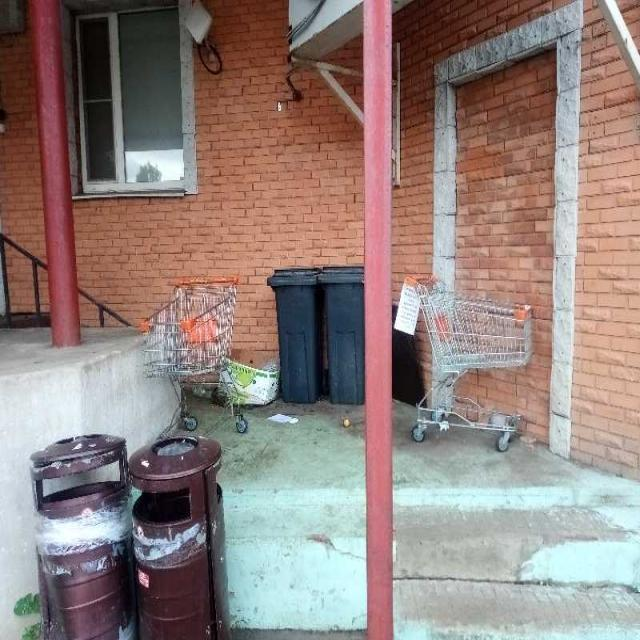Dumpster: (128, 435, 230, 640), (29, 433, 127, 640), (268, 264, 322, 402), (323, 266, 366, 408)
